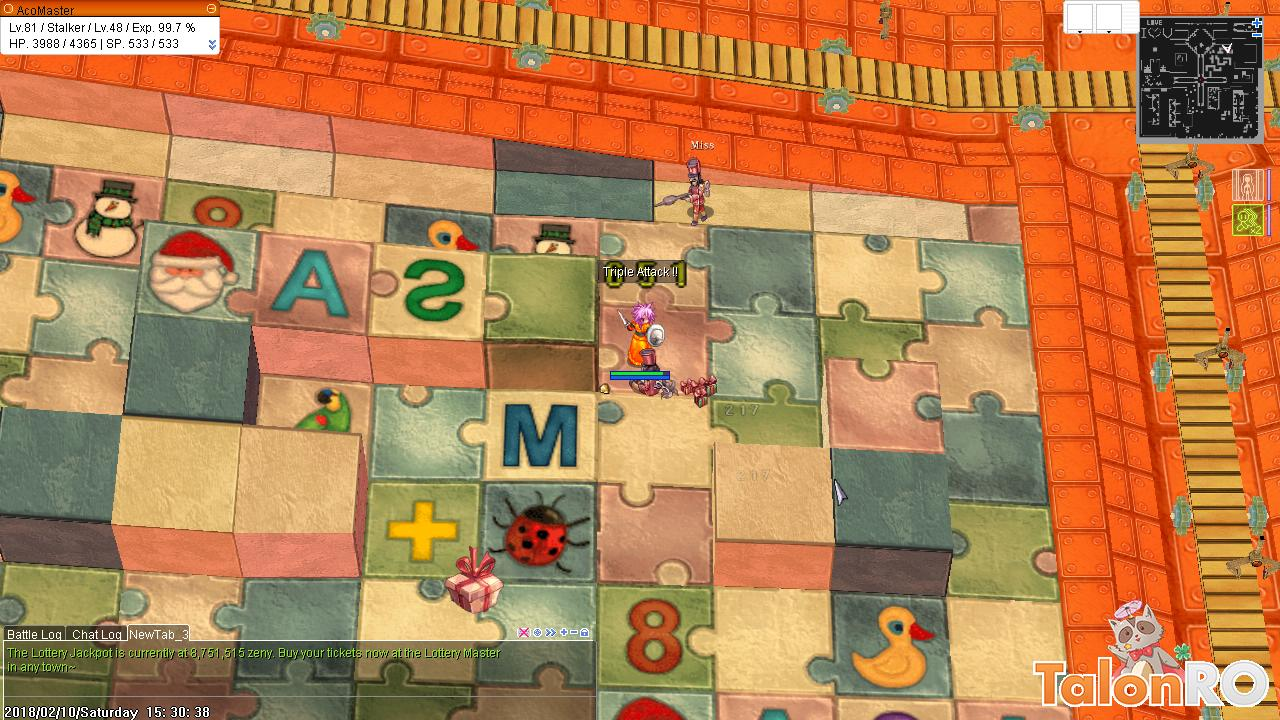loot: (589, 380, 617, 398)
mob: (658, 152, 717, 231)
myst_case: (442, 541, 509, 616)
